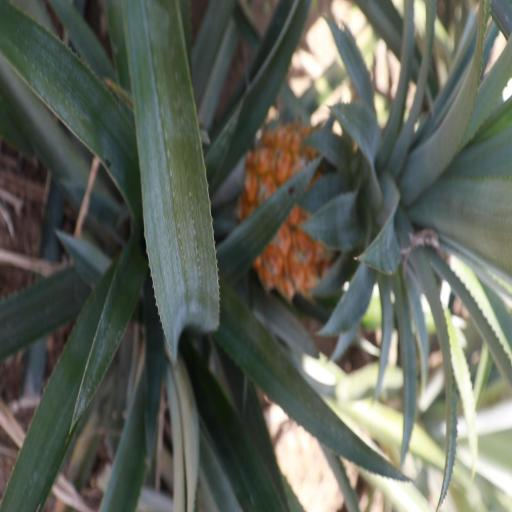Pineapple - v8 v1: (243, 113, 512, 284)
